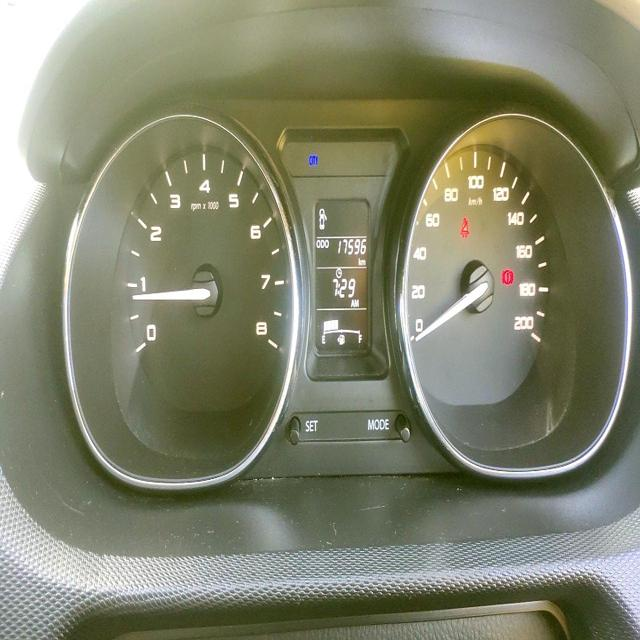odometer: (335, 236, 368, 259)
